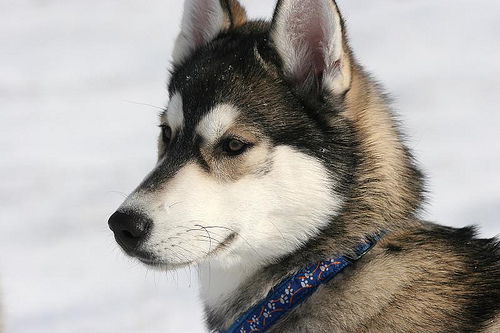dog: (112, 2, 494, 332)
